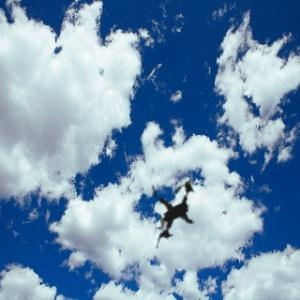drone: (110, 152, 234, 276)
